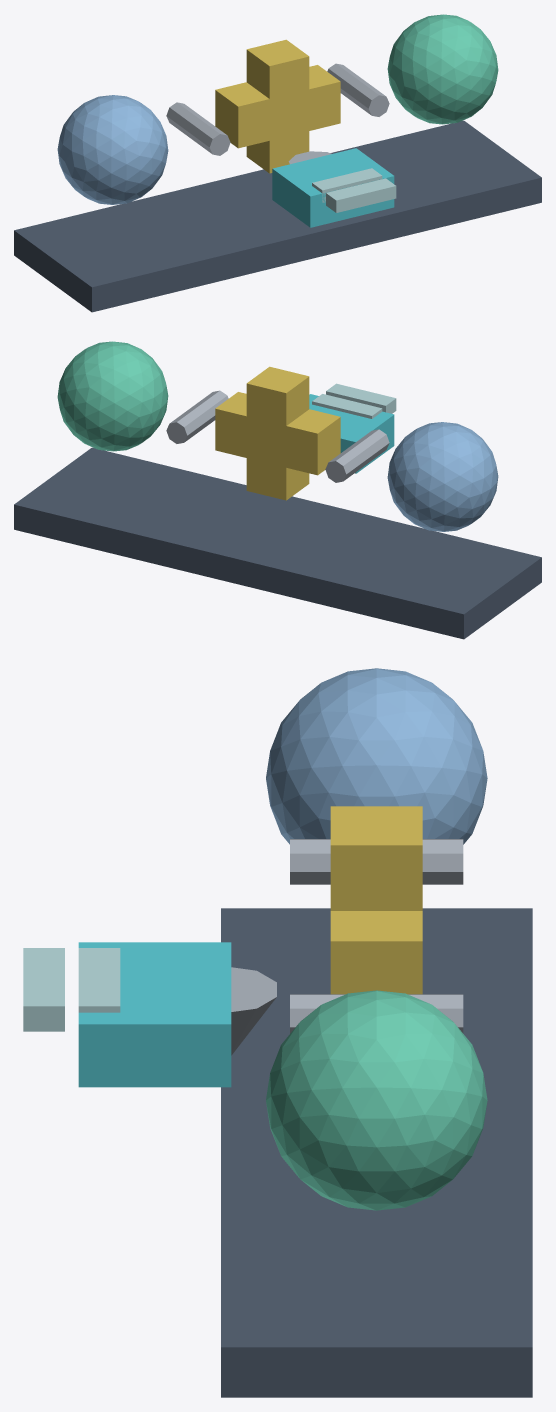
Rendered from OperadoresExpresion.glb.
3 views of the same model, one above another, from view 1: azimuth 30°, elevation 25°; view 2: azimuth 150°, elevation 25°; view 3: azimuth 270°, elevation 25° (orthographic). The views are drawn at different scales.
Visible parts, largest first — view 1: n0, n4, n1, n2, n7, n3, n5, n8, n6, n9; view 2: n0, n4, n1, n2, n3, n7, n5, n6, n8, n9; view 3: n0, n4, n1, n7, n2, n3, n5, n8, n9, n10, n6.
Part boxes in pixels (x1,y1,x2,y2): n0: [14, 120, 541, 312]; n4: [387, 14, 498, 124]; n1: [57, 95, 168, 204]; n2: [246, 39, 309, 173]; n7: [272, 148, 394, 227]; n3: [215, 65, 340, 148]; n5: [166, 102, 230, 155]; n8: [326, 178, 396, 212]; n6: [327, 63, 389, 116]; n9: [312, 168, 382, 202]; n0: [14, 447, 541, 639]; n4: [57, 341, 168, 451]; n1: [387, 422, 498, 531]; n2: [246, 366, 309, 500]; n3: [215, 392, 340, 475]; n7: [309, 394, 394, 473]; n5: [325, 429, 389, 482]; n6: [166, 390, 228, 443]; n8: [326, 383, 396, 413]; n9: [312, 394, 382, 418]; n0: [221, 908, 532, 1397]; n4: [266, 990, 487, 1210]; n1: [266, 668, 487, 844]; n7: [78, 942, 231, 1087]; n2: [330, 806, 422, 910]; n3: [330, 911, 422, 994]; n5: [290, 839, 463, 884]; n8: [23, 948, 64, 1031]; n9: [78, 948, 120, 1012]; n10: [231, 967, 276, 1055]; n6: [290, 994, 463, 1033].
Bounding box in the file's own units: 1.5 × 0.561 × 0.735.
